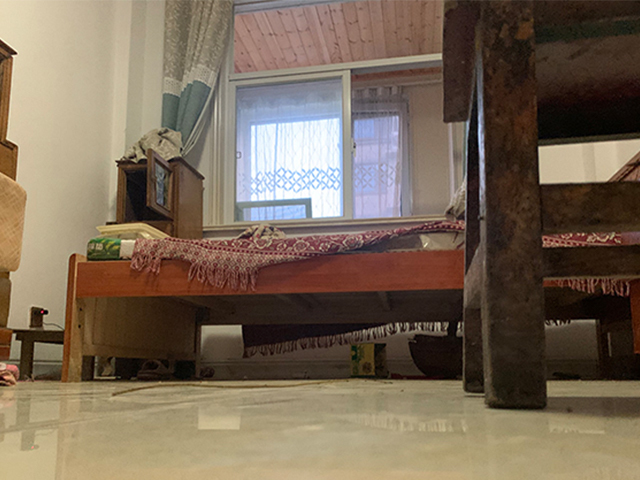bed: (62, 219, 463, 382)
curtain: (146, 3, 236, 169)
slippers: (135, 359, 171, 382)
stool: (440, 1, 640, 411)
